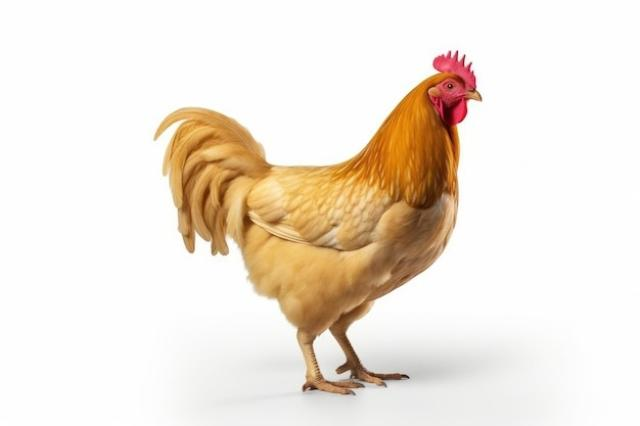Chicken: (152, 49, 483, 396)
